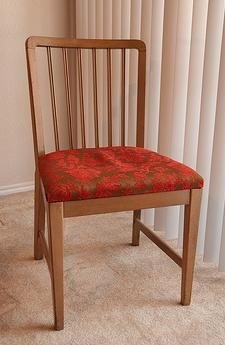obstacle: (26, 36, 202, 329)
